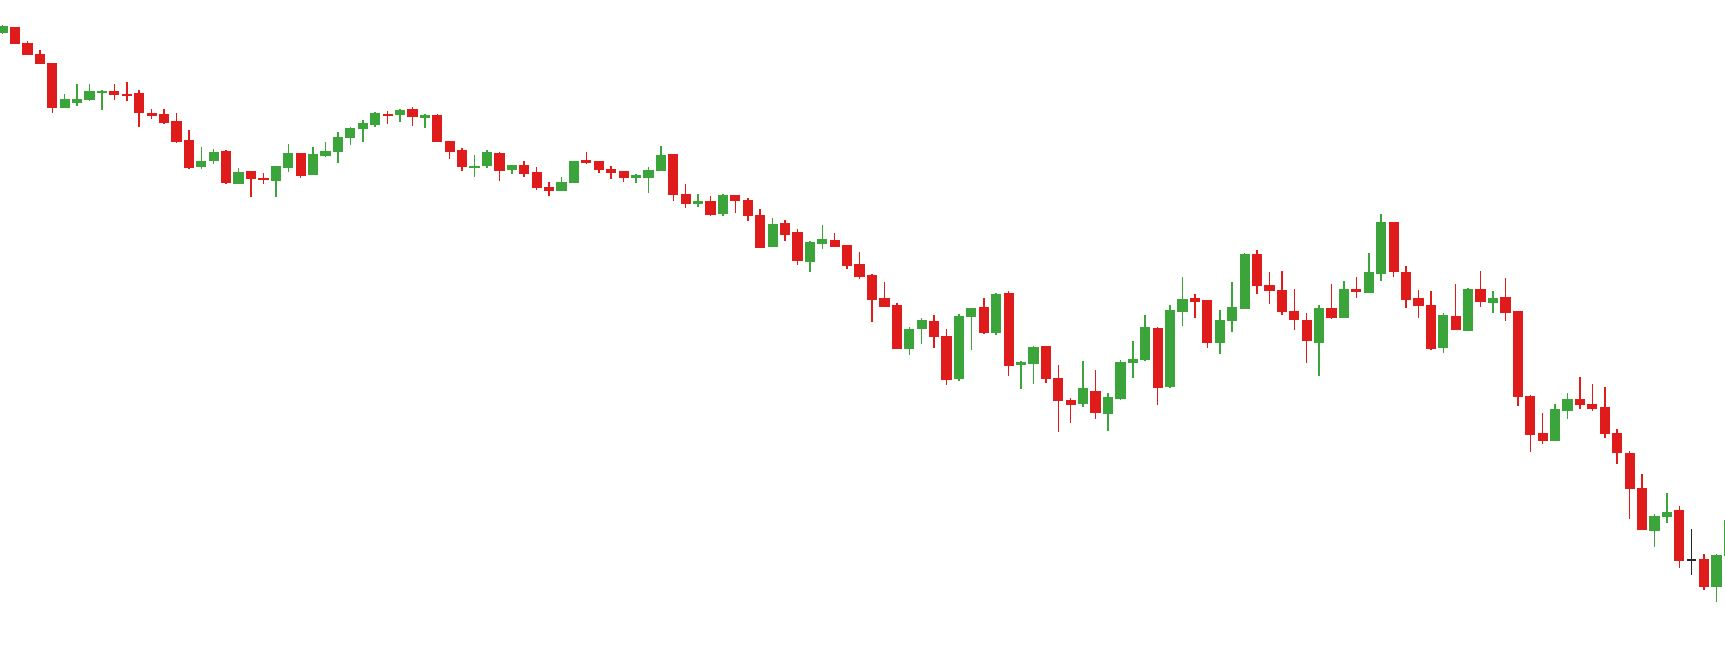sell: (1240, 212, 1400, 319)
